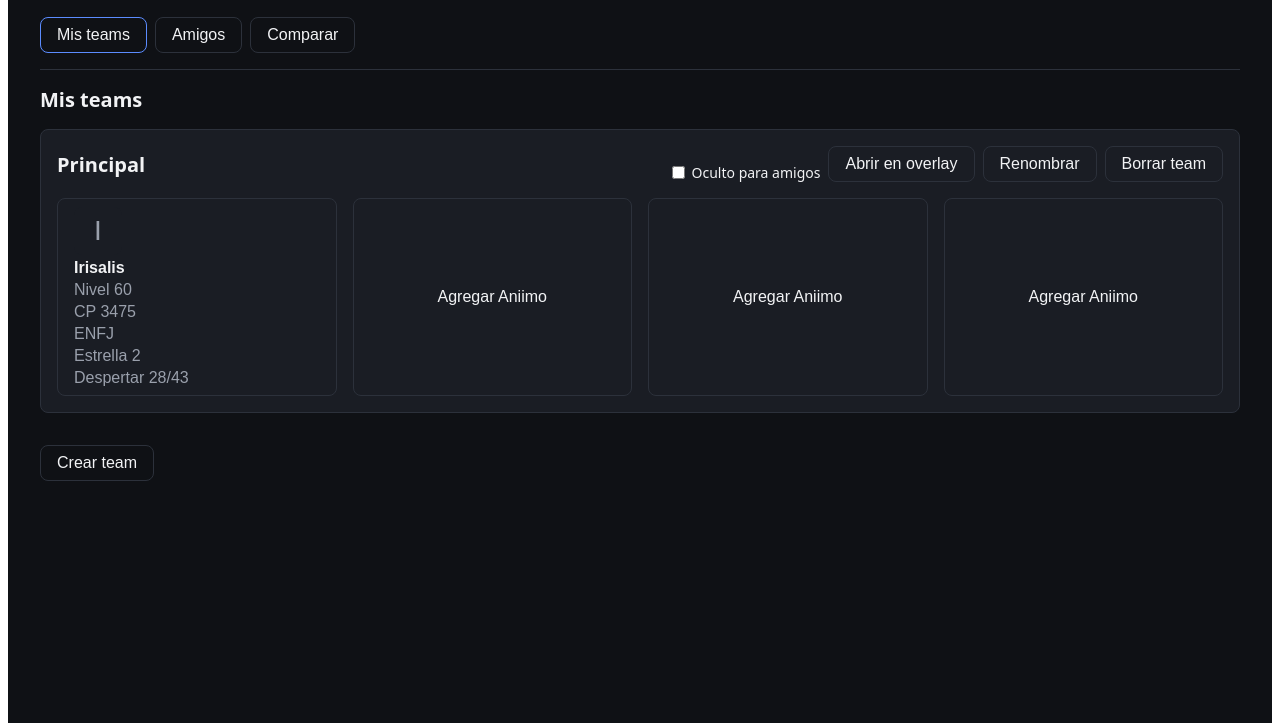
Test case: descartar cambios de la ficha › confirmar vuelve a Mis teams sin guardar
The image size is (1280, 723).
Expected: the heading "Mis teams" is shown, [40, 86, 142, 113]
Click the button "I Irisalis Nivel 60 CP 3475 ENFJ Estrella 2 Despertar 28/43". click: x=98, y=231
box: [57, 198, 336, 396]
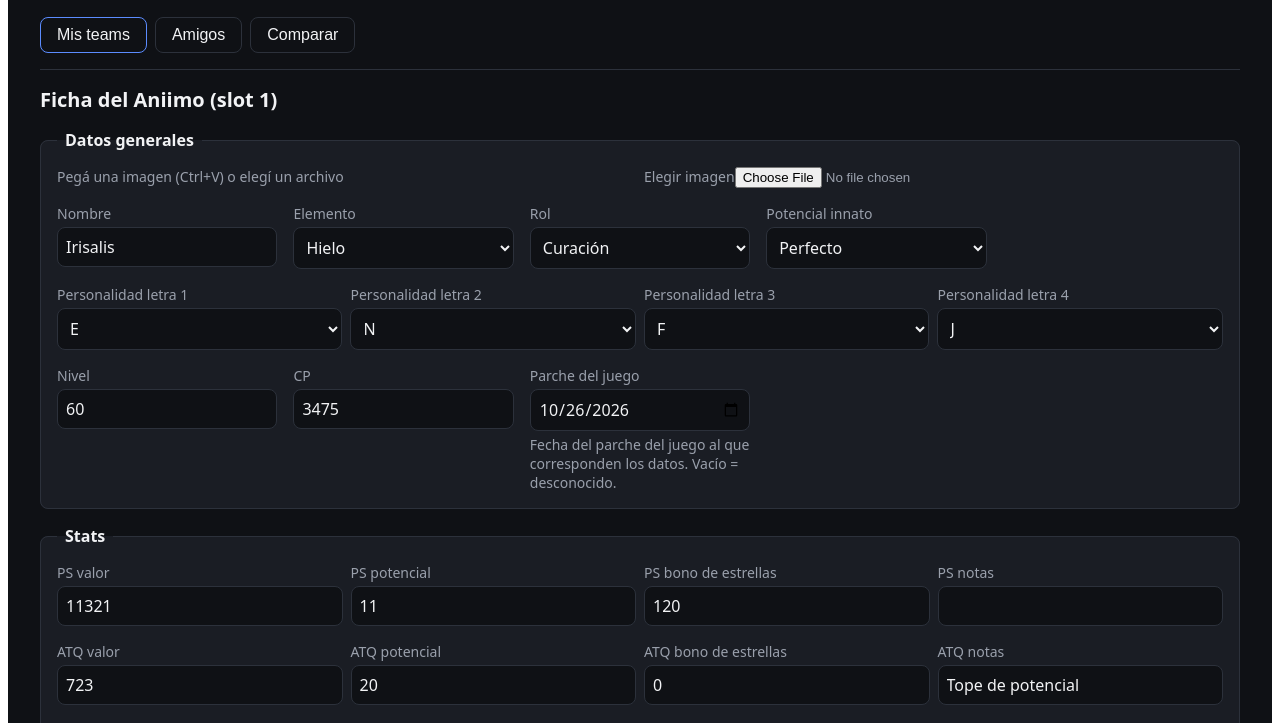
Now the field labelled "Nombre" is shown, box [57, 227, 277, 267]
Replace the text in the field labelled "Nivel" with "61". click: x=167, y=409
box: [57, 389, 277, 429]
(page scrolled)
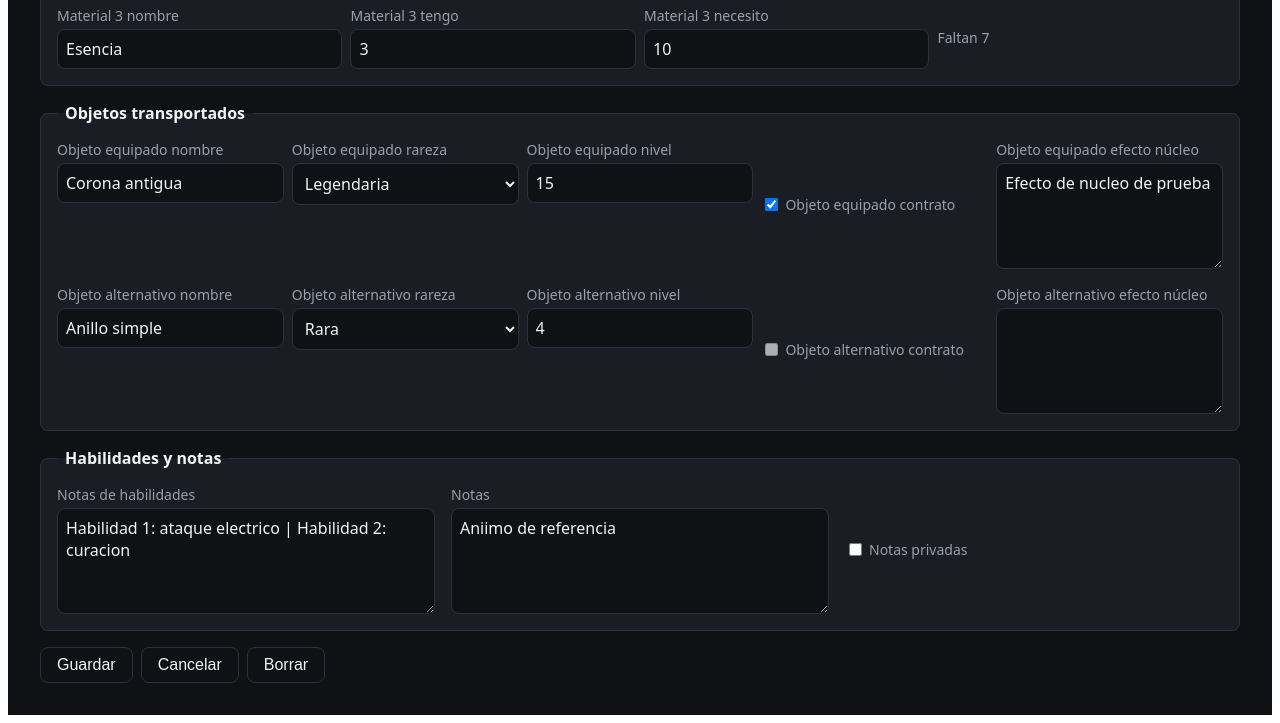
Click the button "Cancelar". click: x=190, y=665
box: [141, 647, 239, 683]
(page scrolled)
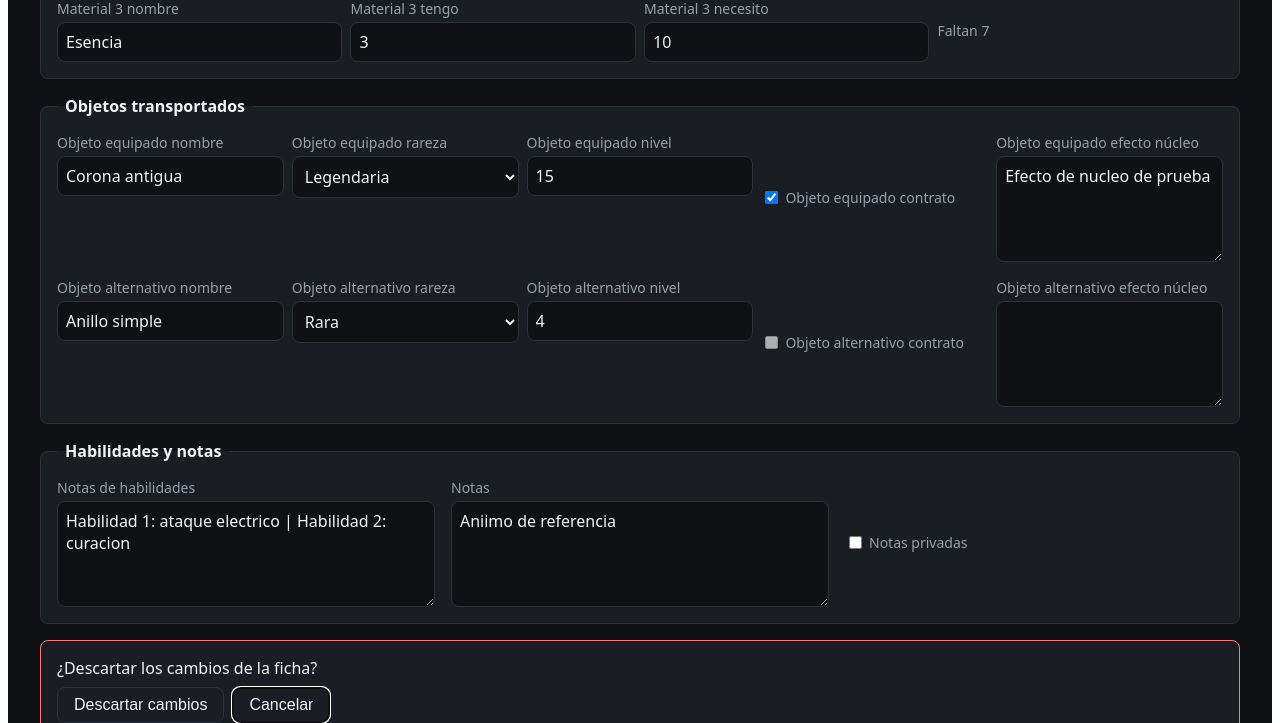
Click the button "Descartar cambios". click: x=141, y=705
box: [57, 687, 224, 722]
(page scrolled)
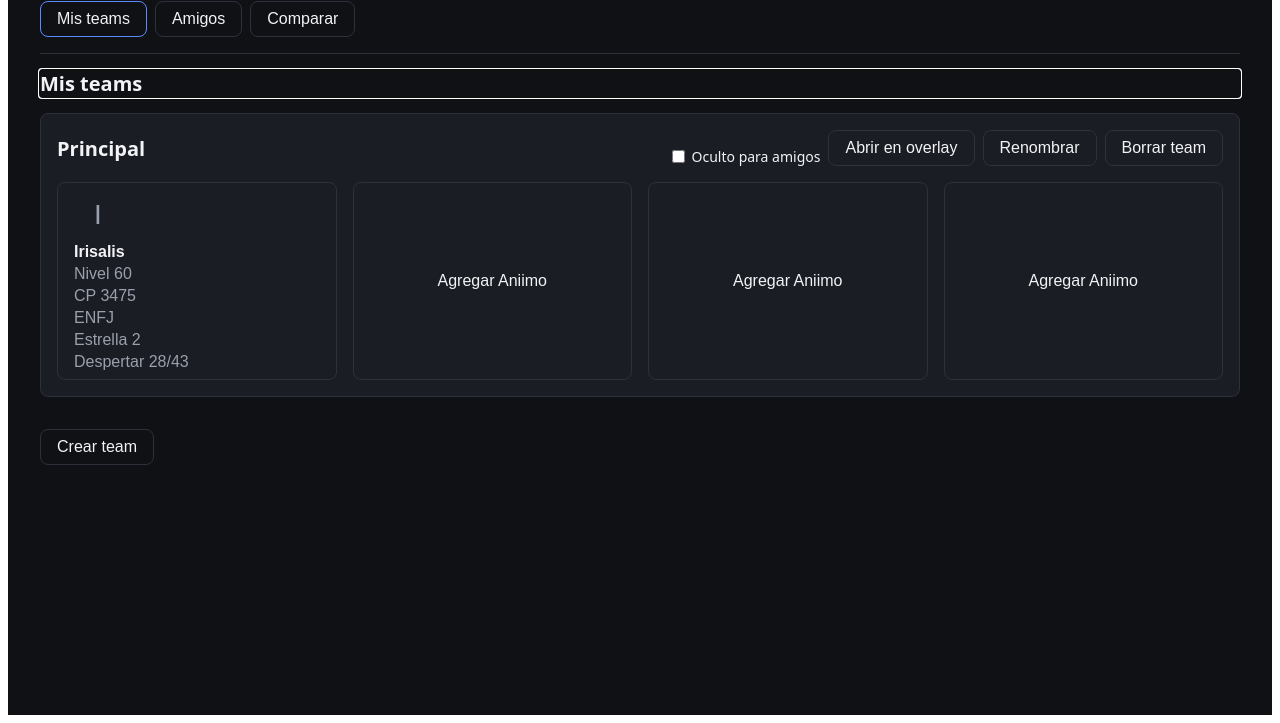
Now the heading "Mis teams" is shown, box [40, 70, 142, 97]
